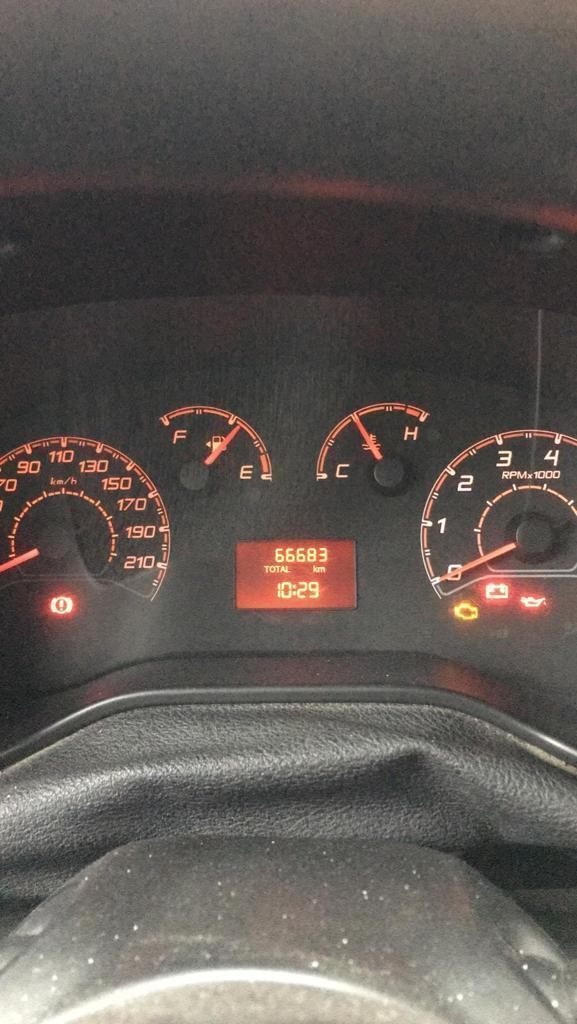0: (281, 580, 292, 599)
1: (276, 580, 280, 599)
2: (296, 580, 307, 599)
3: (318, 546, 327, 562)
6: (274, 547, 284, 562), (295, 547, 305, 562), (285, 547, 294, 562)
8: (306, 546, 317, 562)
9: (308, 580, 319, 599)
X: (317, 565, 325, 573), (263, 564, 269, 573), (312, 563, 317, 573), (292, 584, 296, 596), (269, 565, 275, 573), (280, 565, 285, 573), (275, 565, 280, 572), (286, 565, 290, 573)
odometer: (231, 534, 362, 613)
